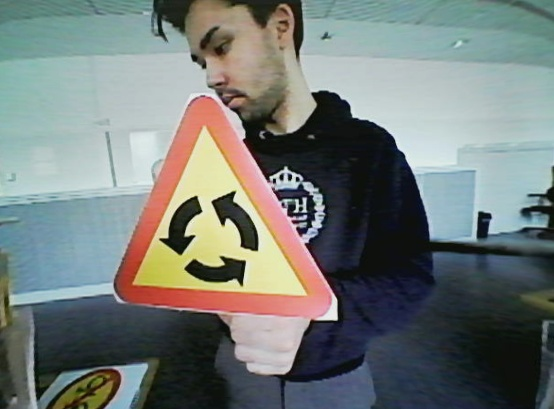roundabout_warning: (101, 90, 348, 324)
